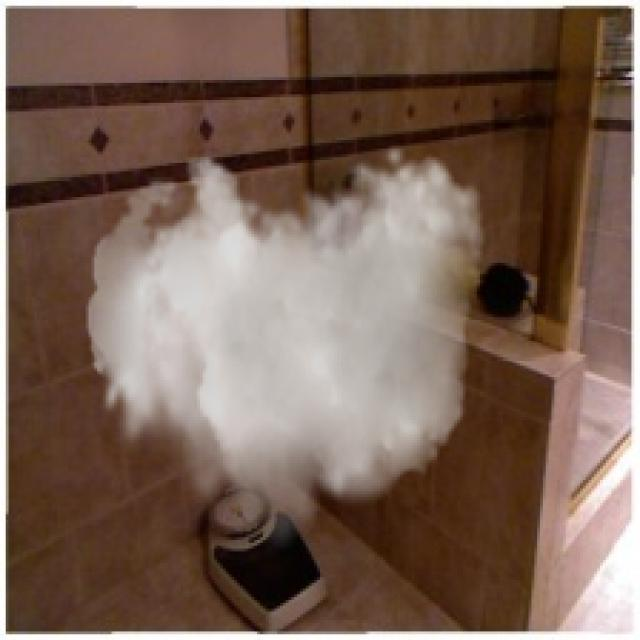smoke: (86, 143, 486, 557)
